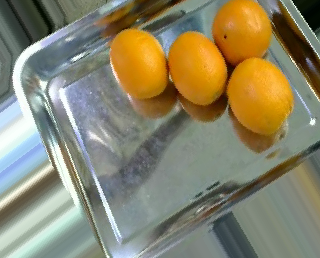Orange: (226, 56, 294, 136), (169, 30, 228, 104), (108, 27, 167, 98), (211, 1, 273, 67)
